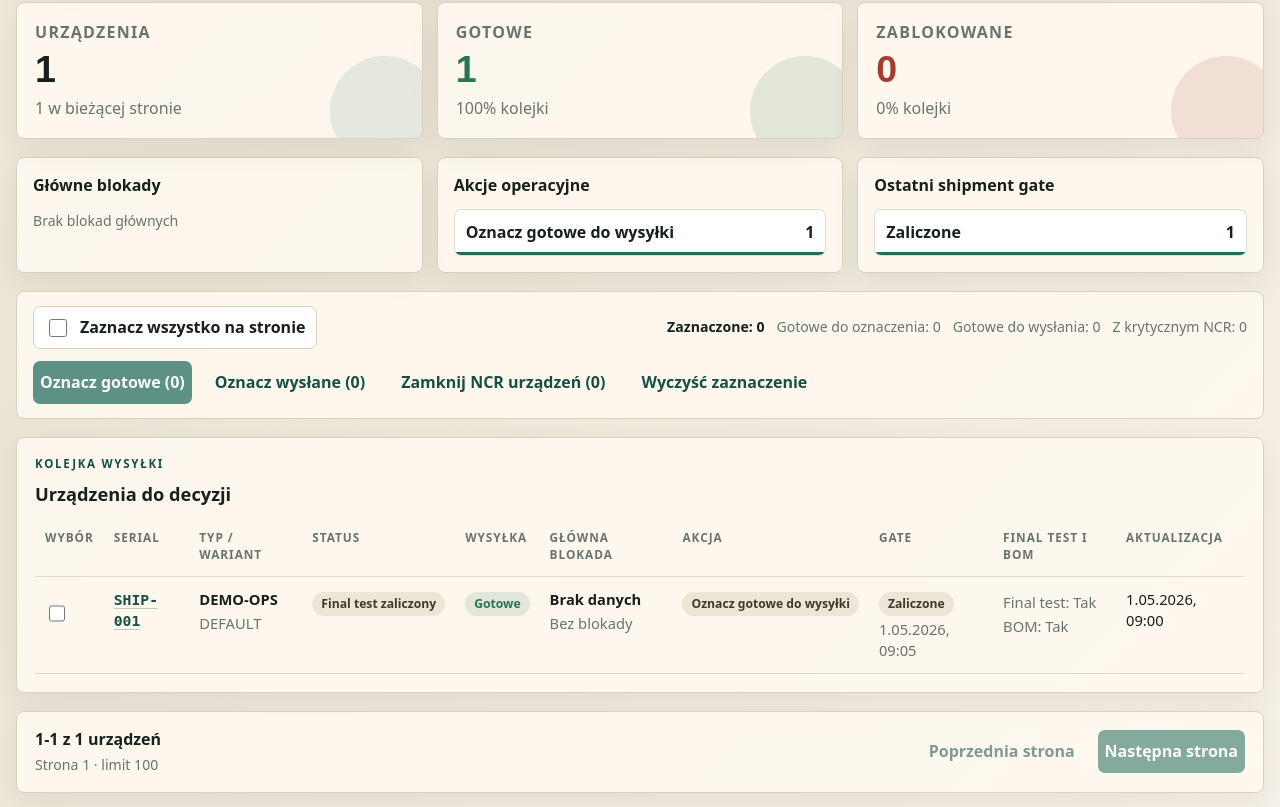
Test case: App › shows action error in the details drawer when mark-ready is rejected
(page scrolled)
Click the button "SHIP-001" at (146, 610), box [114, 588, 179, 631]
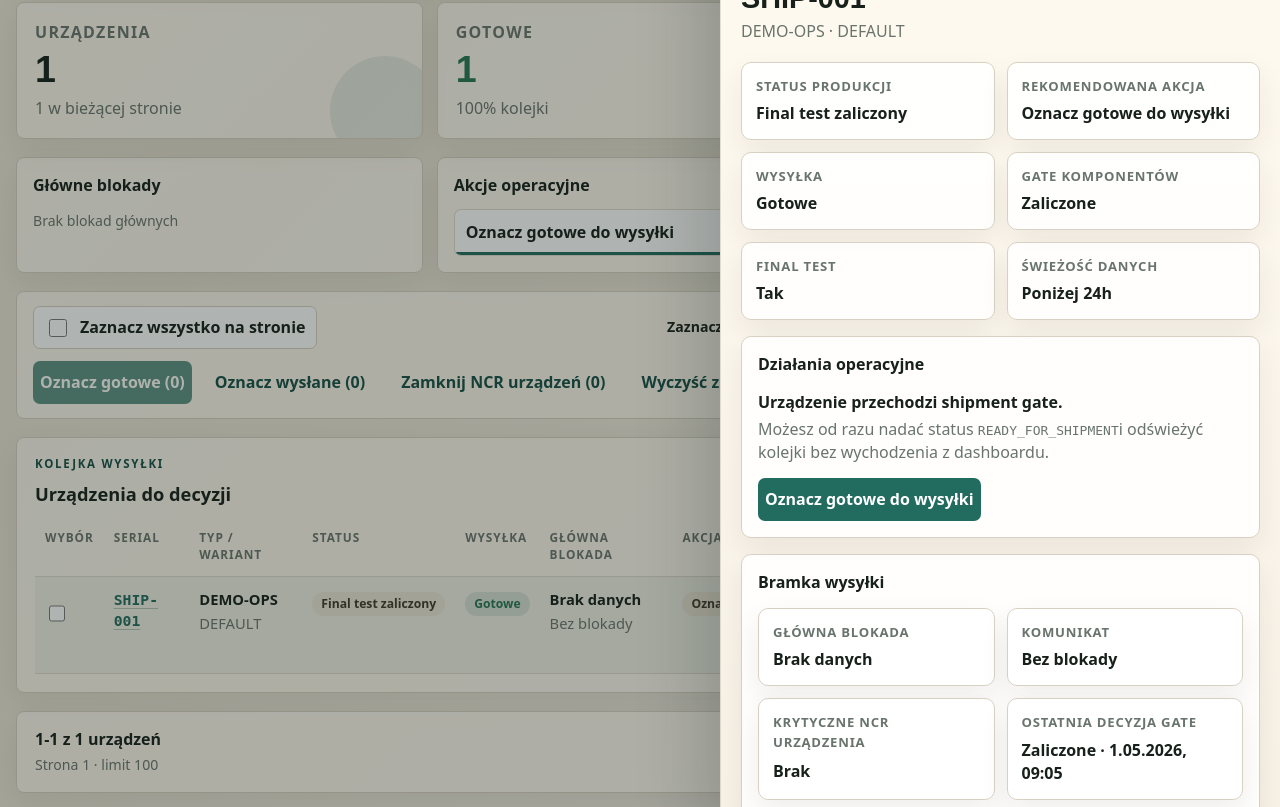
Click the button "Oznacz gotowe do wysyłki" at (869, 500), box [758, 478, 980, 521]
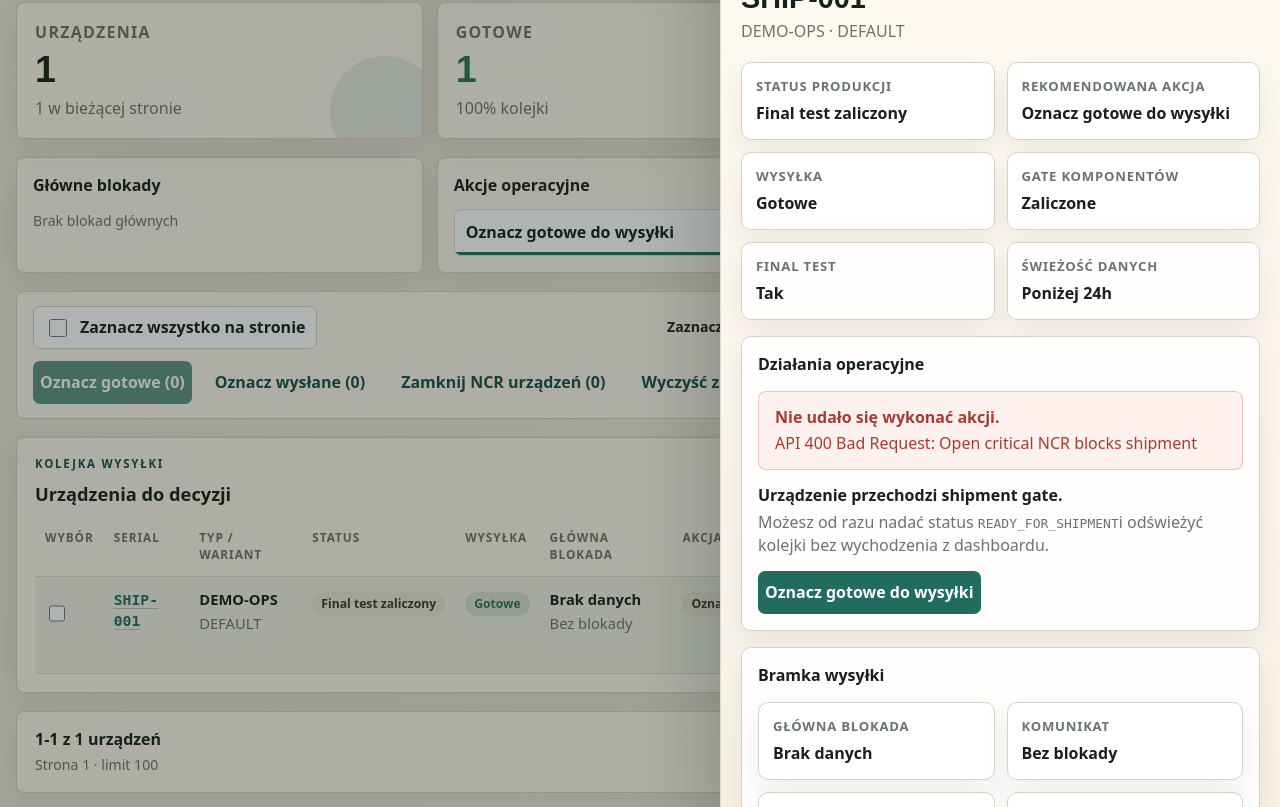
Expected: the button "Oznacz gotowe do wysyłki" is enabled, [758, 572, 980, 614]
Expected: the text "API 400 Bad Request: Open critical NCR blocks shipment" is shown, [775, 432, 1226, 455]
